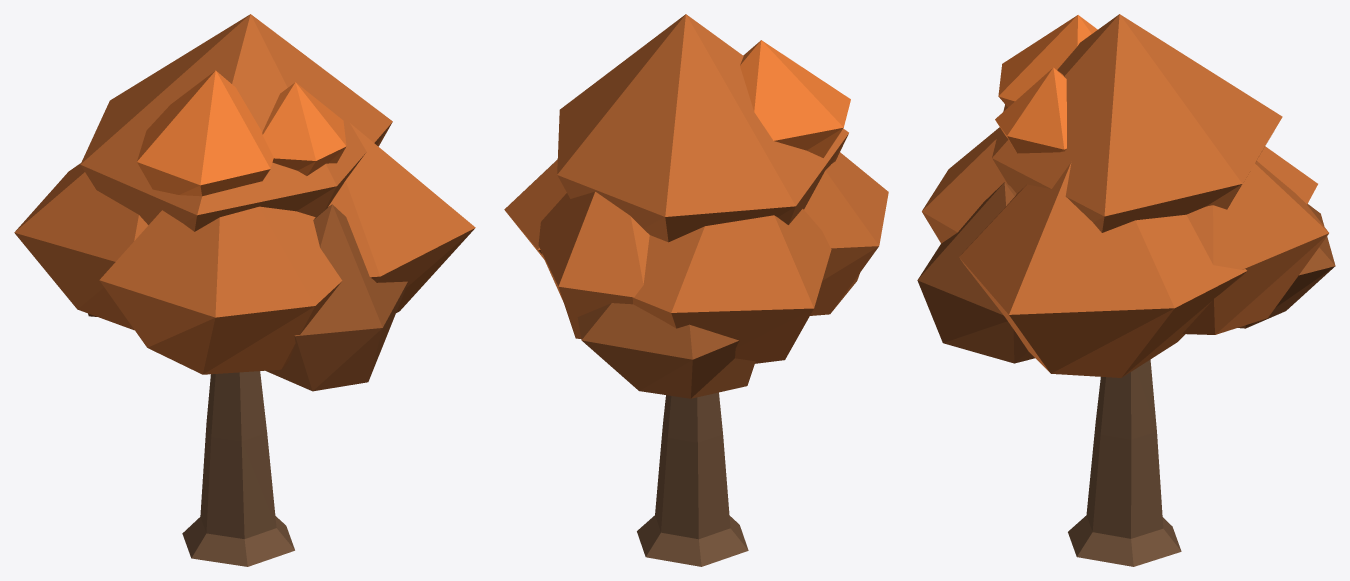
File: tree_maple_1.obj
The picture shows the model from 3 angles, left to right: view 1: azimuth 30°, elevation 25°; view 2: azimuth 150°, elevation 25°; view 3: azimuth 270°, elevation 25°; orthographic projection.
Visible parts, largest first — view 1: tree_maple_1; view 2: tree_maple_1; view 3: tree_maple_1.
Part boxes in pixels (box(x1,y1,x2,y2)): tree_maple_1: box(14, 14, 475, 566); tree_maple_1: box(504, 14, 888, 566); tree_maple_1: box(917, 14, 1335, 566).
Bounding box in the file's own units: 0.7528 × 1.08 × 0.765.
